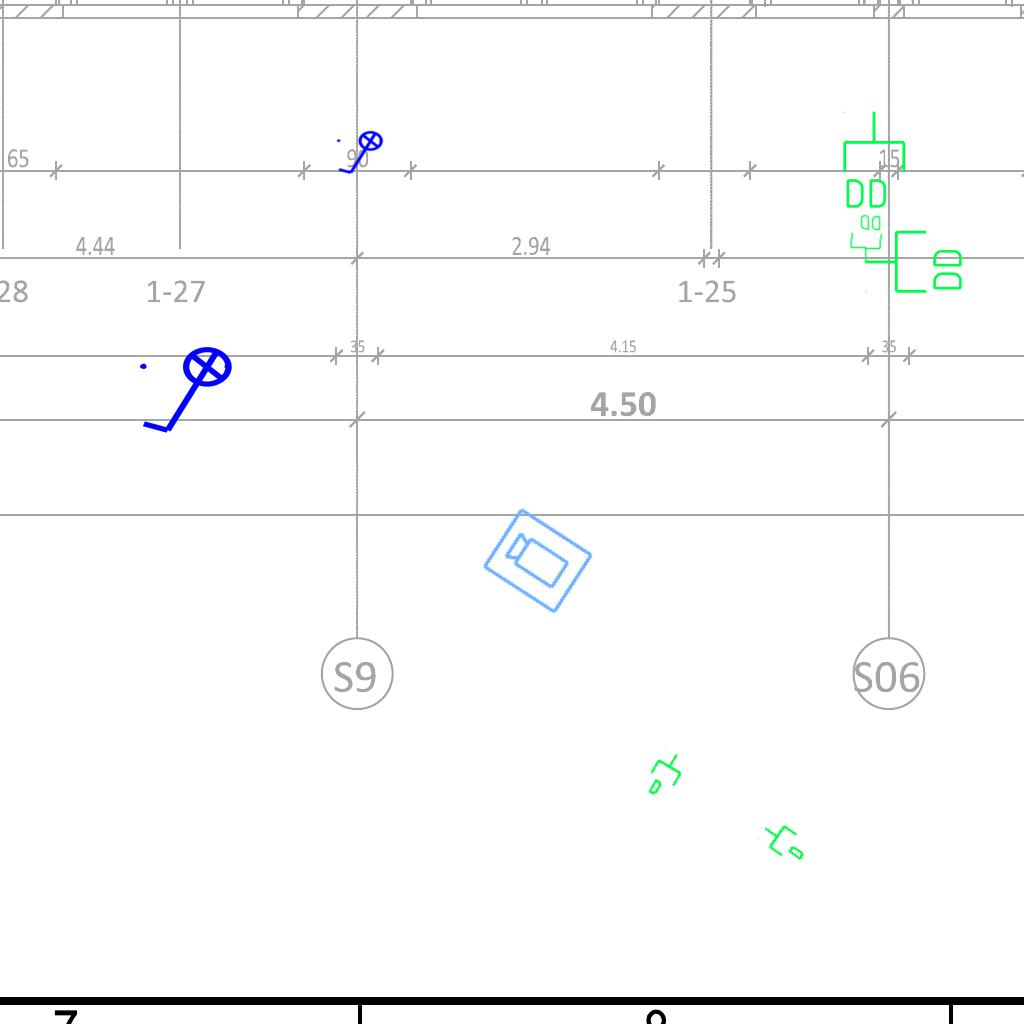Ausschalter_beleuchtet: (134, 345, 246, 441), (334, 130, 390, 178)
Datenanschluss_einfach: (754, 812, 816, 870), (638, 744, 694, 806)
Datenanschluss_zweifach: (839, 109, 908, 212), (863, 228, 966, 297), (849, 213, 884, 265)
KFO_Kamera_mit_Festobjektiv: (479, 503, 598, 618)
